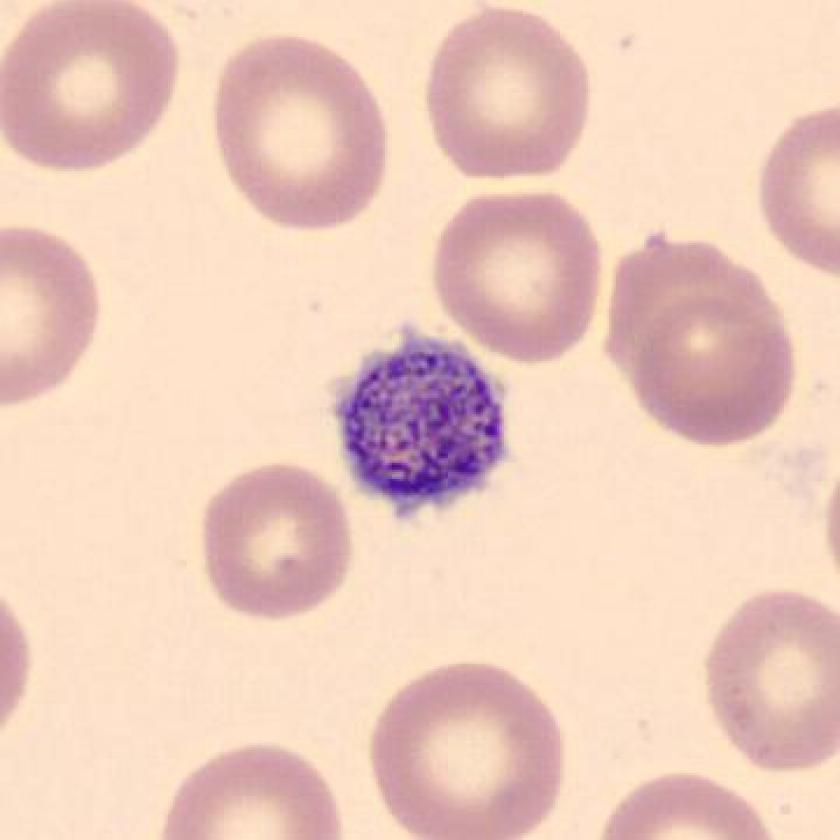platelets: (325, 309, 531, 533)
